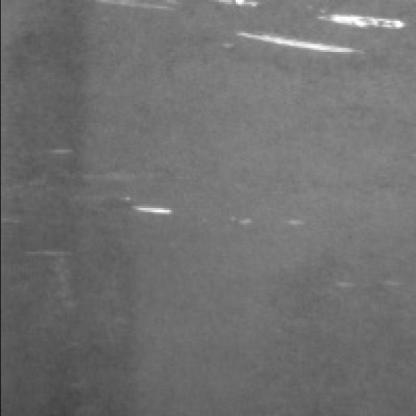scratches: (227, 8, 407, 58), (116, 190, 177, 223)
